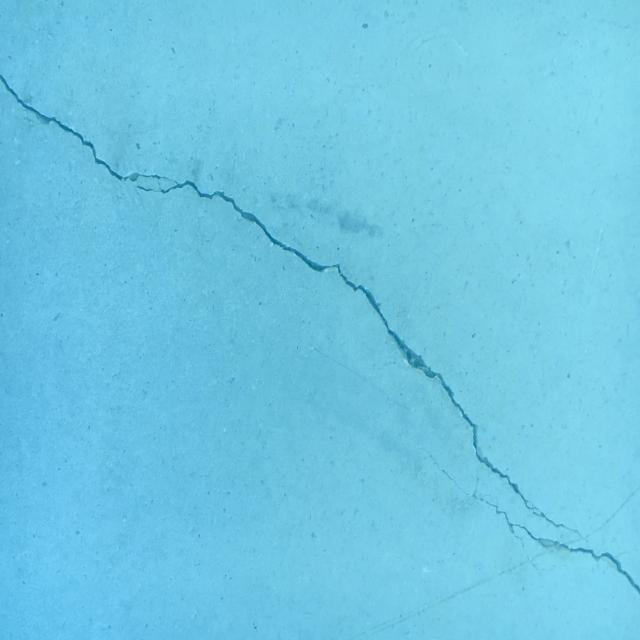crack: (0, 72, 580, 536), (427, 450, 640, 596)
